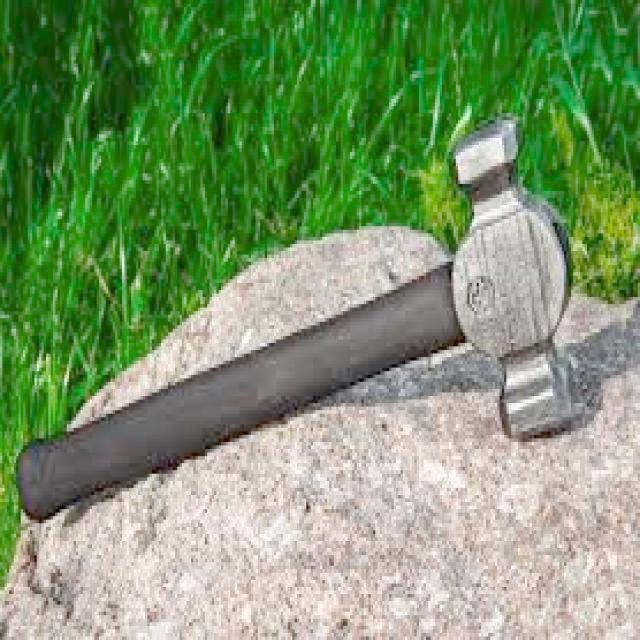hammer: (11, 114, 582, 530)
